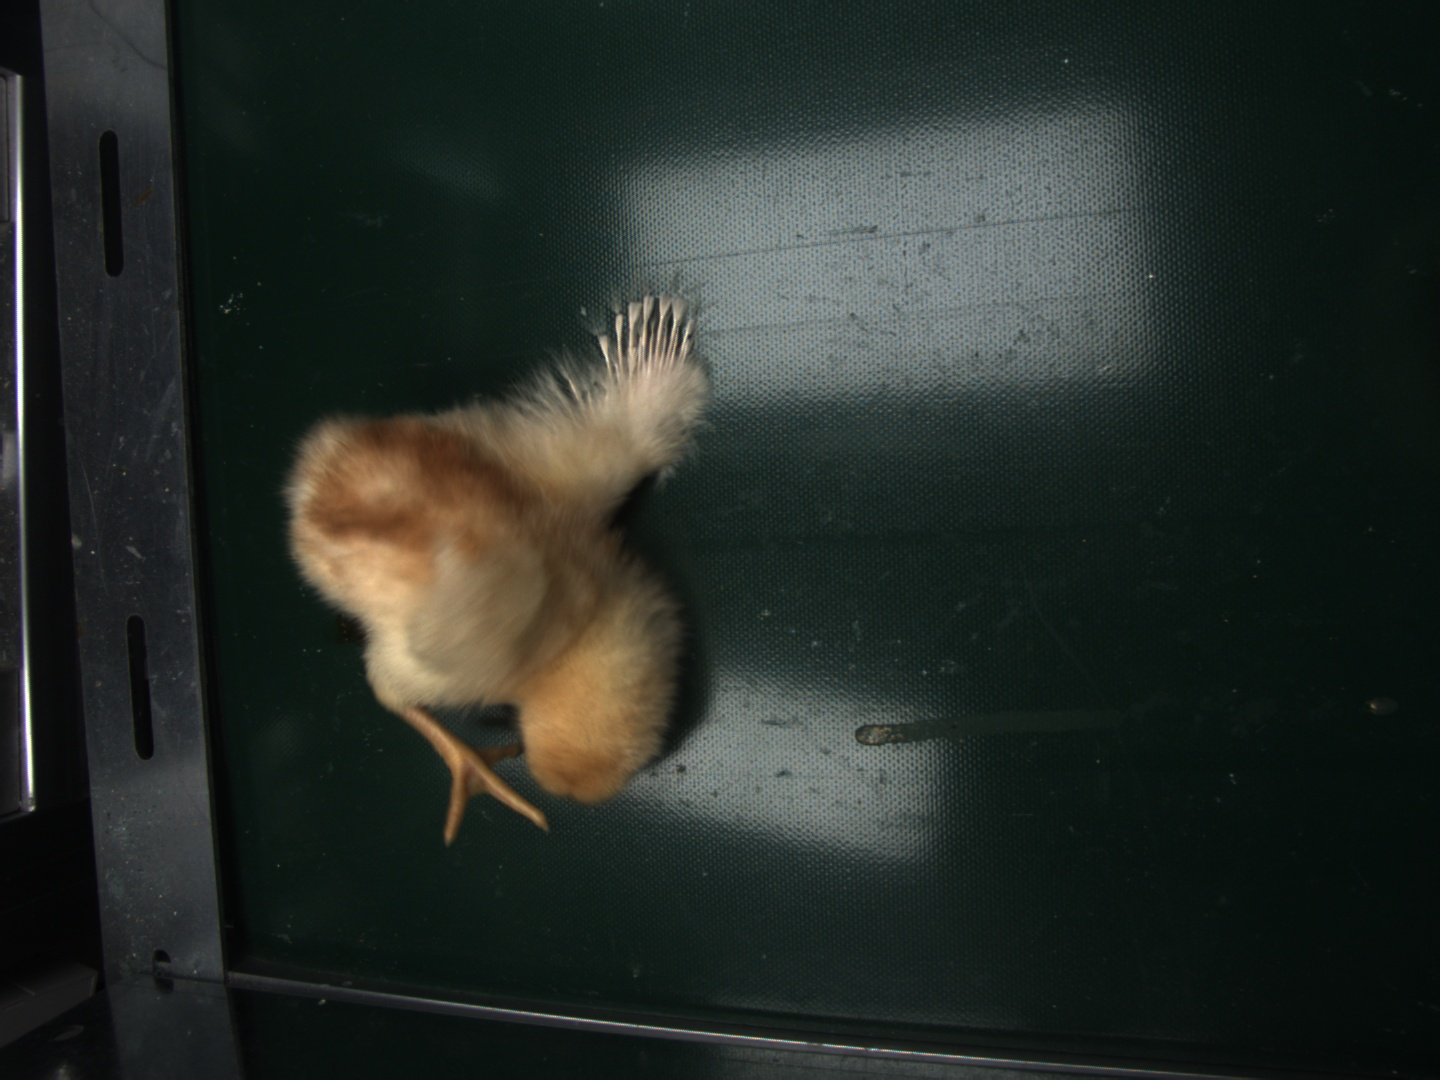female: (595, 293, 698, 388)
